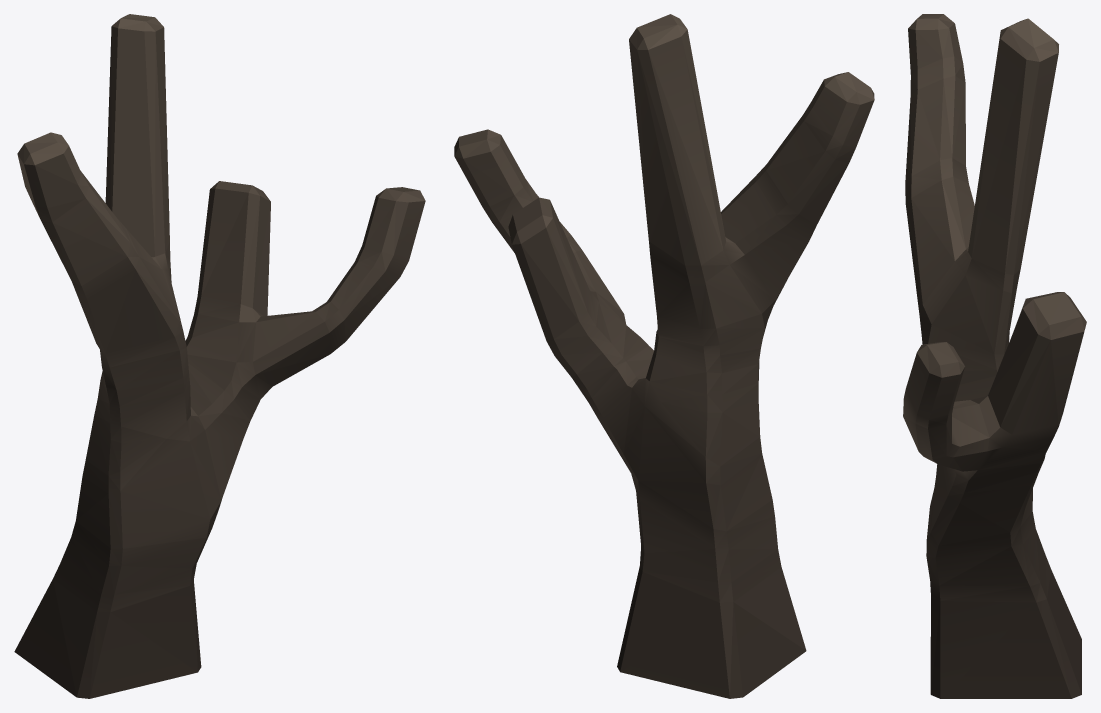
The model's file is pokokmati.fbx.
3 views of the same model, side by side, from view 1: azimuth 30°, elevation 25°; view 2: azimuth 150°, elevation 25°; view 3: azimuth 270°, elevation 25° (orthographic). The views are drawn at different scales.
Visible parts, largest first — view 1: pokokmati; view 2: pokokmati; view 3: pokokmati.
Boxes of the visible parts, box(x1,y1,x2,y2) form: pokokmati: box(14, 14, 425, 698); pokokmati: box(454, 14, 874, 698); pokokmati: box(903, 14, 1086, 698).
Size of the model in its own units: 3.39 by 5 by 1.26.
